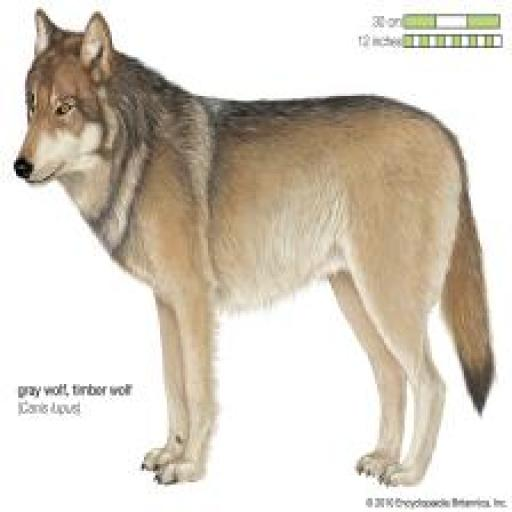wolf: (14, 4, 498, 492)
